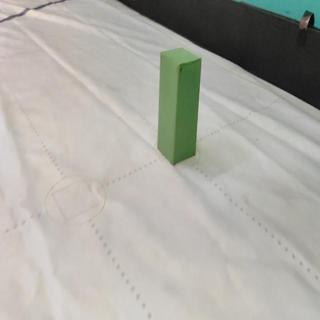greenbox: (157, 44, 205, 166)
